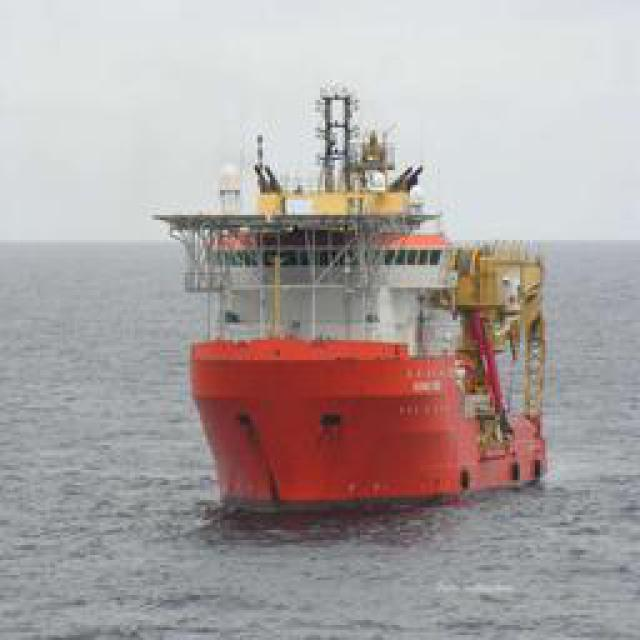Ship: (173, 131, 558, 514)
